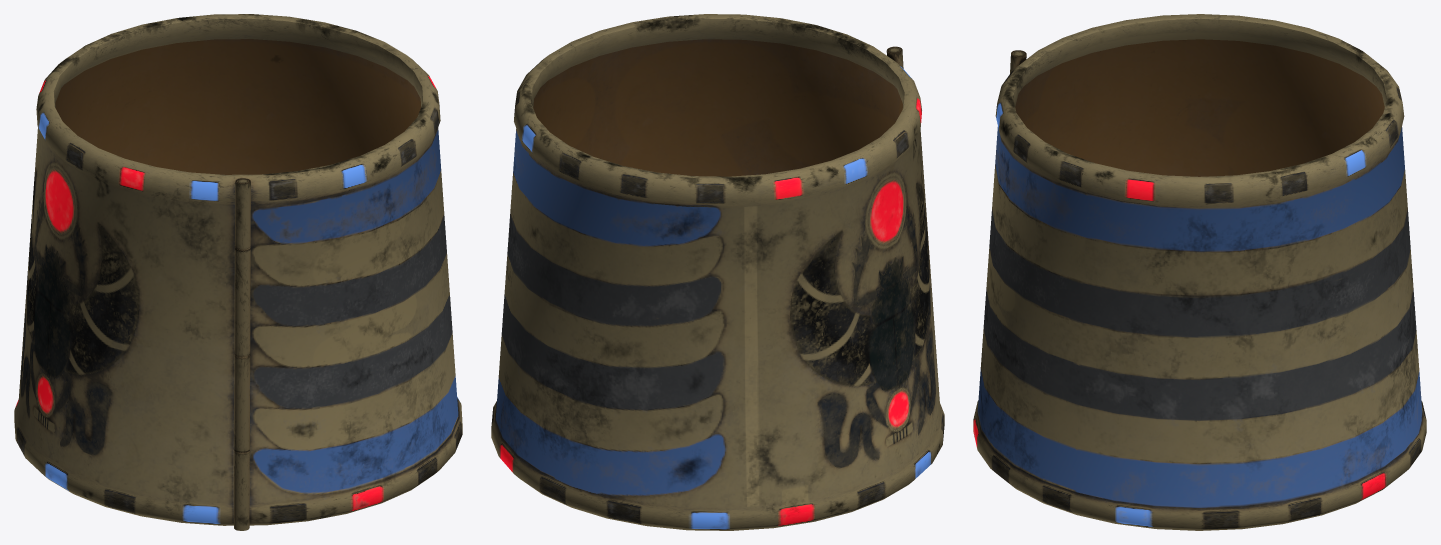
Rendered from Egyptian_Bracelet_Low_poly.glb.
3 renders of one model, left to right at view 1: azimuth 30°, elevation 25°; view 2: azimuth 150°, elevation 25°; view 3: azimuth 270°, elevation 25°, orthographic.
Visible parts, largest first — view 1: bracelet_TT_checker_2048x2048_UV_GRID_0, lock__0; view 2: bracelet_TT_checker_2048x2048_UV_GRID_0; view 3: bracelet_TT_checker_2048x2048_UV_GRID_0.
Part boxes in pixels (<box>): bracelet_TT_checker_2048x2048_UV_GRID_0: <box>14,14,462,525</box>; lock__0: <box>234,178,250,530</box>; bracelet_TT_checker_2048x2048_UV_GRID_0: <box>491,14,944,530</box>; bracelet_TT_checker_2048x2048_UV_GRID_0: <box>973,14,1426,530</box>.
Bounding box in the file's own units: 1.2 × 0.997 × 1.2.
Materials: 2 (2 with a texture image).
